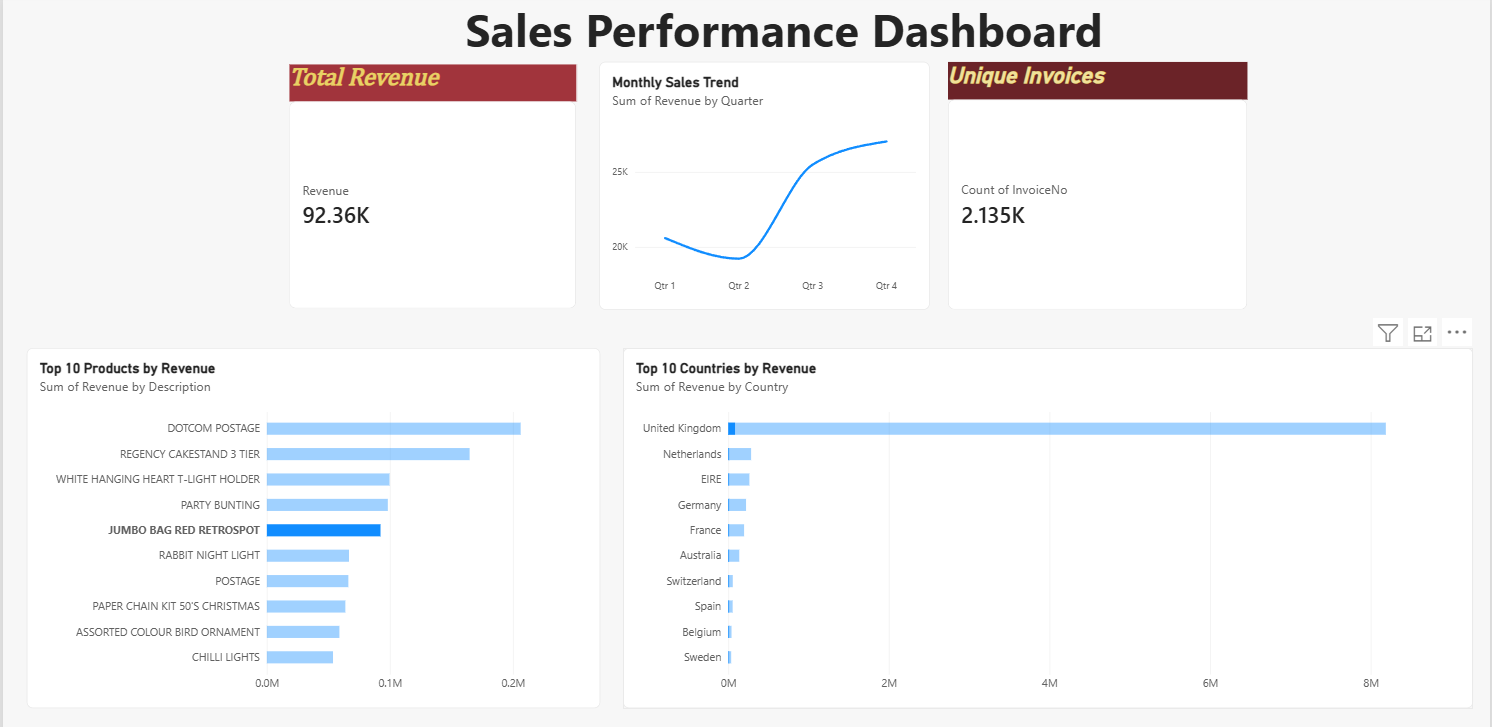

What the dashboard file says about the page in this screenshot:
{"tool":"powerbi","page":{"name":"Page 1","canvas":[1920,1080],"ordinal":0},"visuals":[{"type":"cardVisual","title":"Total Revenue","fields":{"Data":["Sum(Online Retail.Revenue)"]},"box":[370,85,370,315],"z":0},{"type":"cardVisual","title":"Unique Invoices","fields":{"Data":["Count(Online Retail.InvoiceNo)"]},"box":[1220,82,386,320],"z":3},{"type":"clusteredBarChart","title":"Top 10 Products by Revenue","fields":{"Category":["Online Retail.Description"],"Y":["Sum(Online Retail.Revenue)"]},"box":[30,452,740,465],"z":4},{"type":"lineChart","title":"Monthly Sales Trend","fields":{"Category":["Online Retail.InvoiceDate.Variation.Date Hierarchy.Year","Online Retail.InvoiceDate.Variation.Date Hierarchy.Quarter","Online Retail.InvoiceDate.Variation.Date Hierarchy.Month","Online Retail.InvoiceDate.Variation.Date Hierarchy.Day"],"Y":["Sum(Online Retail.Revenue)"]},"box":[770,82,426,320],"z":5},{"type":"clusteredBarChart","title":"Top 10 Countries by Revenue","fields":{"Category":["Online Retail.Country"],"Y":["Sum(Online Retail.Revenue)"]},"box":[800,452,1096.7,465],"z":6},{"type":"textbox","box":[370,0,1050,165],"z":8}]}

Visuals, with their boxes on the page's 1920x1080 design canvas (x1, y1, x2, y2). These are canvas units, not pixel positions in the 1492x727 screenshot, which may show the page scaled, cropped or inside an application window:
"Total Revenue" cardVisual: (x1=370, y1=85, x2=740, y2=400)
"Unique Invoices" cardVisual: (x1=1220, y1=82, x2=1606, y2=402)
"Top 10 Products by Revenue" clusteredBarChart: (x1=30, y1=452, x2=770, y2=917)
"Monthly Sales Trend" lineChart: (x1=770, y1=82, x2=1196, y2=402)
"Top 10 Countries by Revenue" clusteredBarChart: (x1=800, y1=452, x2=1897, y2=917)
textbox: (x1=370, y1=0, x2=1420, y2=165)
